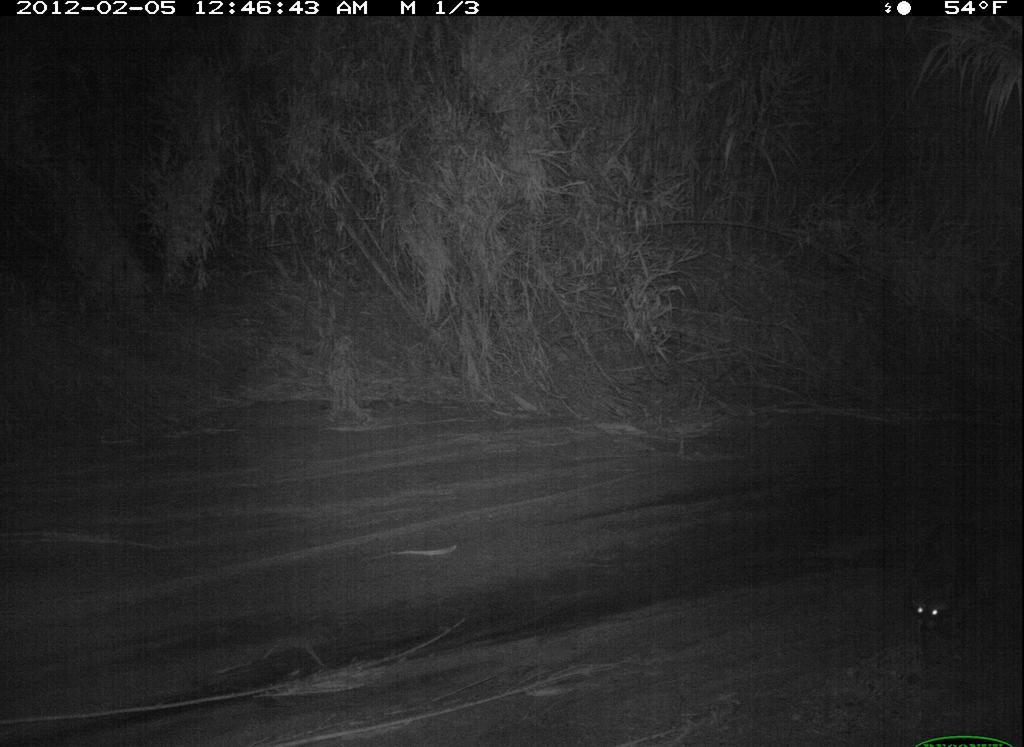raccoon: (905, 493, 1012, 659)
